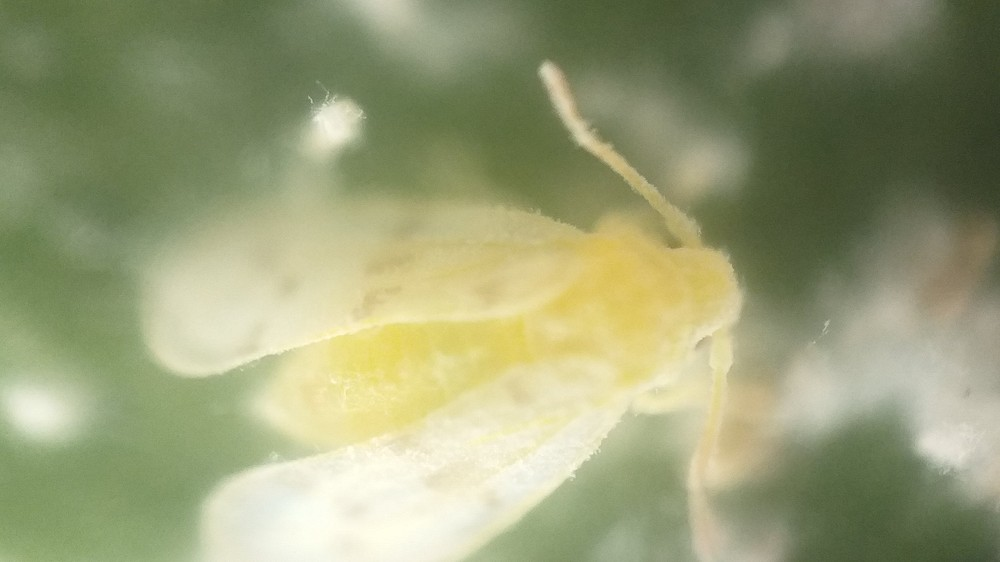Mosca Blanca: (123, 48, 761, 562)
